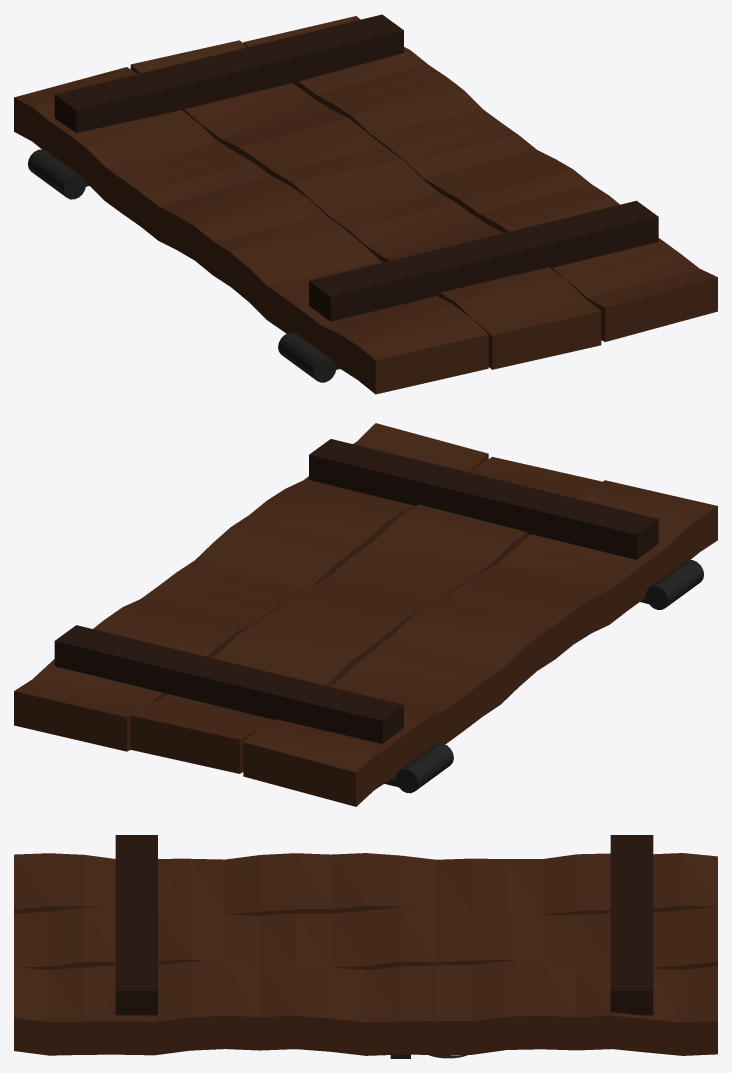
3 renders of one model, top to bottom at view 1: azimuth 30°, elevation 25°; view 2: azimuth 150°, elevation 25°; view 3: azimuth 270°, elevation 25°, orthographic. The views are drawn at different scales.
Bounding box in the file's own units: 1.01 × 0.22 × 1.72.
